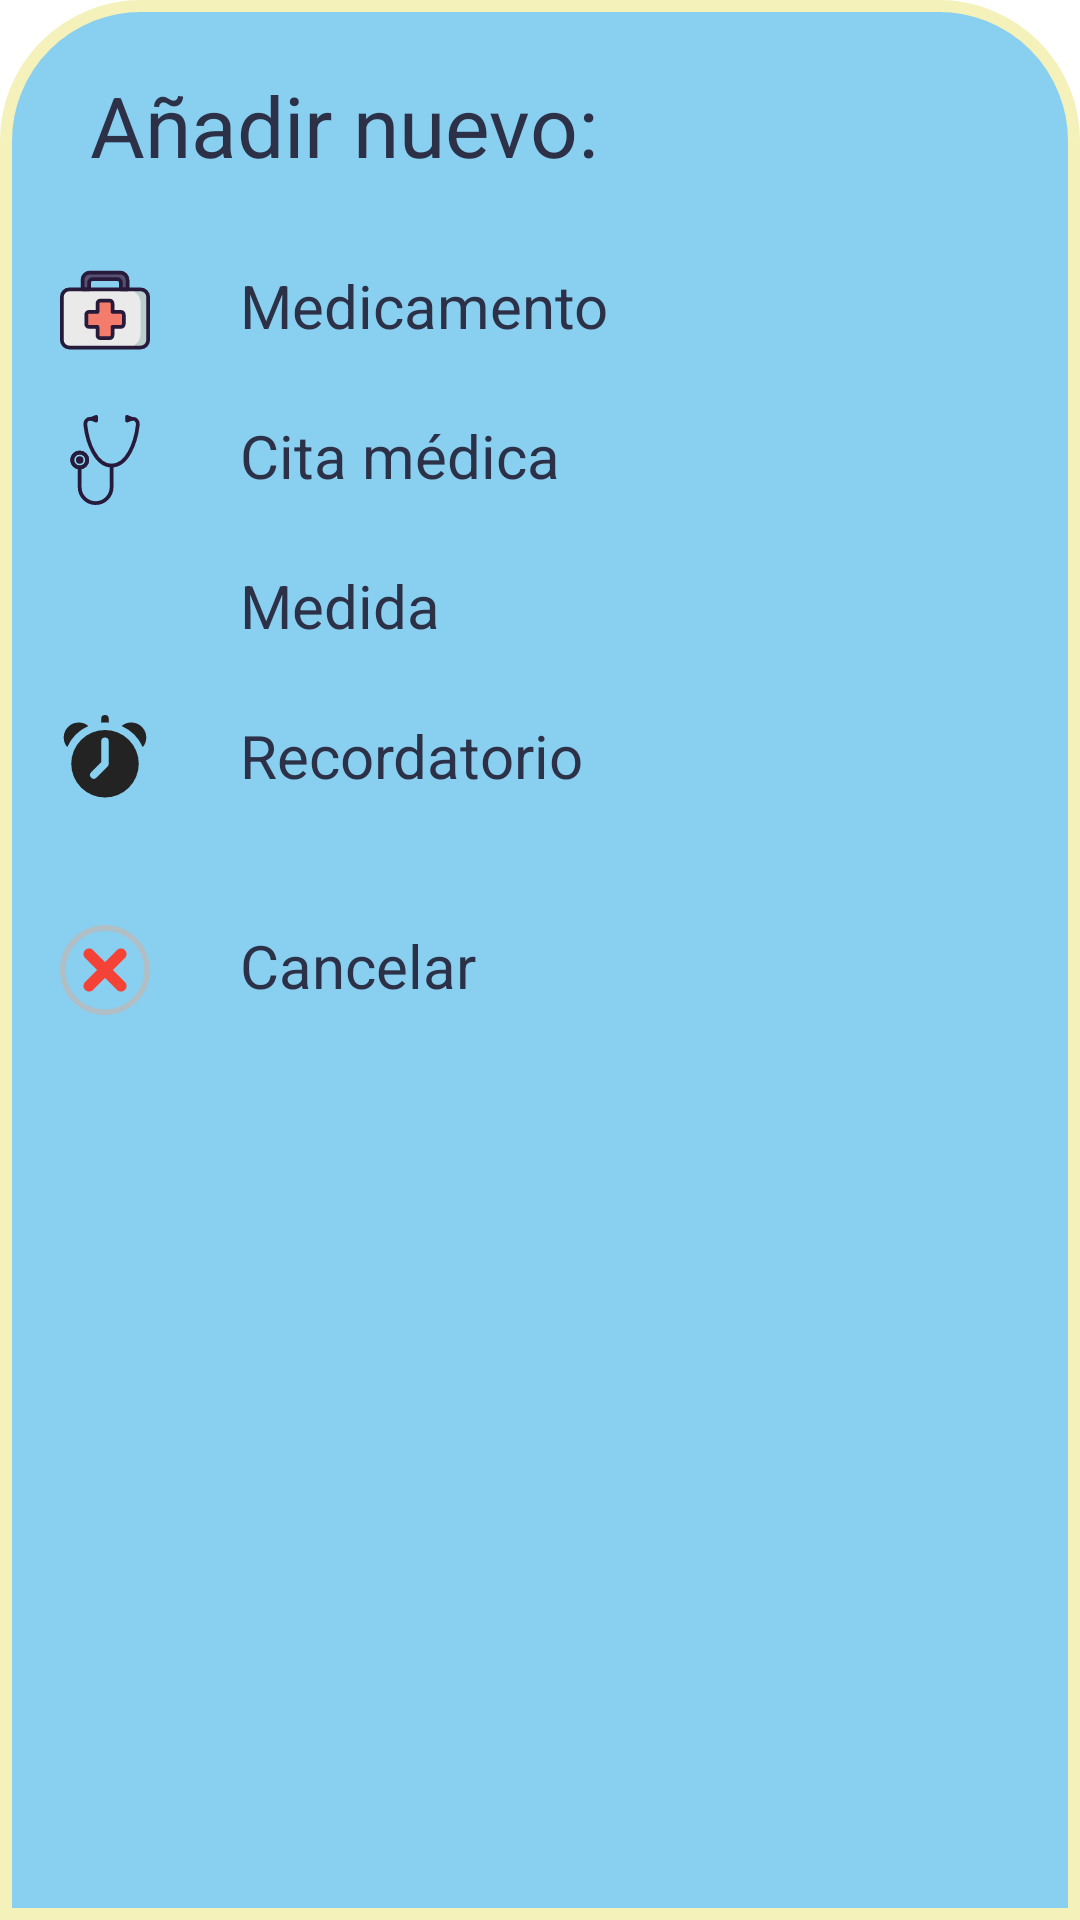

Screen size 1080×1920. Icon name, then its box in pixels as BBox(x1, y1, x2, y2):
alarm clock: BBox(63, 715, 147, 798)
exit: BBox(60, 925, 150, 1015)
hospital tool: BBox(70, 415, 140, 505)
kit: BBox(60, 270, 150, 350)
